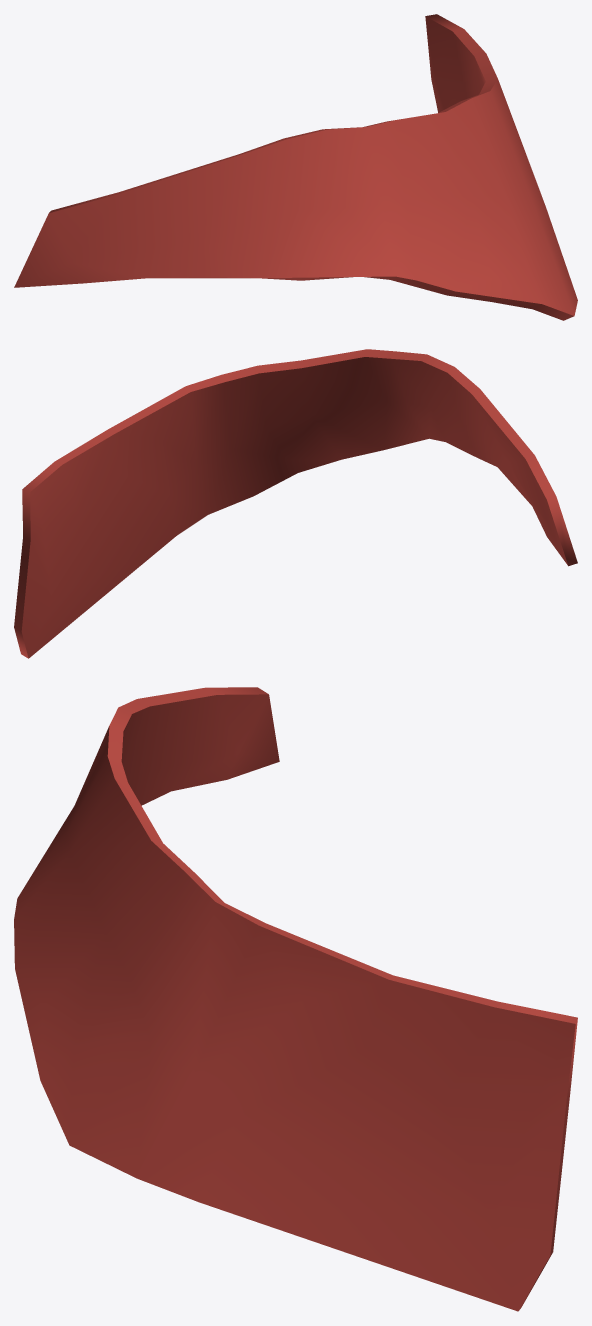
The model's file is musculos-inferior-extensor-retinaculum-of-ankle-l.glb.
3 renders of one model, top to bottom at view 1: azimuth 30°, elevation 25°; view 2: azimuth 150°, elevation 25°; view 3: azimuth 270°, elevation 25°, orthographic. The views are drawn at different scales.
Parts seen in each view (by area): view 1: Inferior extensor retinaculum of ankle.l; view 2: Inferior extensor retinaculum of ankle.l; view 3: Inferior extensor retinaculum of ankle.l.
Boxes of the visible parts, x1,y1,x2,y2 form: Inferior extensor retinaculum of ankle.l: (14, 14, 577, 320); Inferior extensor retinaculum of ankle.l: (14, 349, 577, 658); Inferior extensor retinaculum of ankle.l: (14, 687, 577, 1311).
Bounding box in the file's own units: 0.0529 × 0.0284 × 0.0368.
